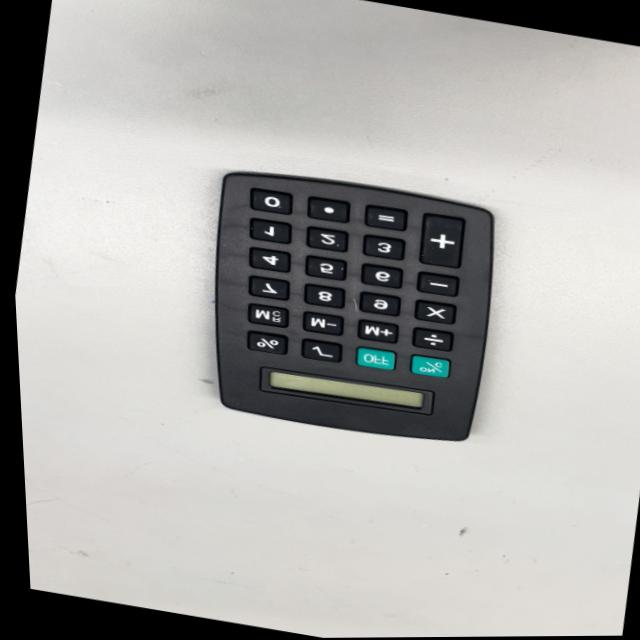calculator: (163, 152, 526, 462)
